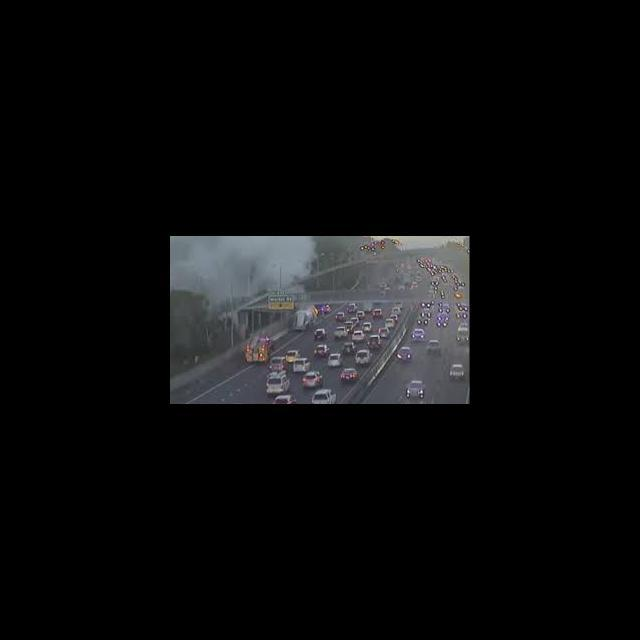Smoke: (171, 236, 316, 299)
